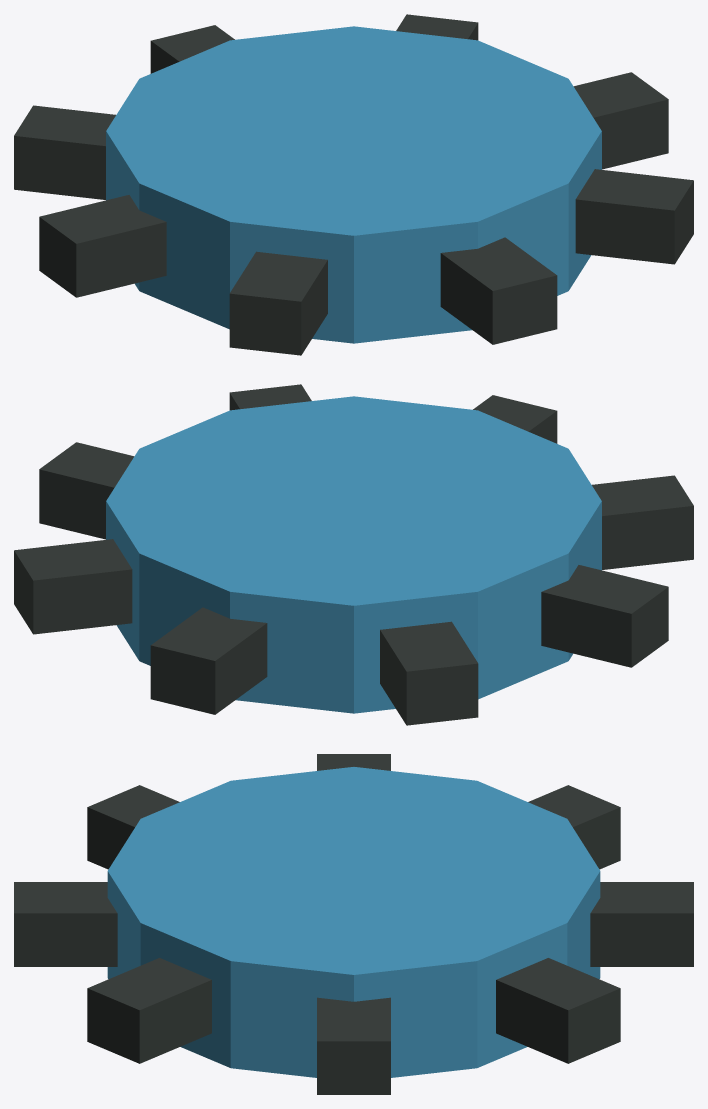
The model's file is Bastion_LargePowerPlant_TurbineSpinLeft.obj.
3 renders of one model, top to bottom at view 1: azimuth 30°, elevation 25°; view 2: azimuth 150°, elevation 25°; view 3: azimuth 270°, elevation 25°, orthographic.
Parts seen in each view (by area): view 1: Bastion_LargePowerPlant_TurbineSpinLeft; view 2: Bastion_LargePowerPlant_TurbineSpinLeft; view 3: Bastion_LargePowerPlant_TurbineSpinLeft.
Boxes of the visible parts, <box> form: Bastion_LargePowerPlant_TurbineSpinLeft: <box>14,14,693,355</box>; Bastion_LargePowerPlant_TurbineSpinLeft: <box>14,384,693,725</box>; Bastion_LargePowerPlant_TurbineSpinLeft: <box>14,754,693,1094</box>.
Size of the model in its own units: 1.38 by 0.24 by 1.38.
Materials: 1 (1 with a texture image).
